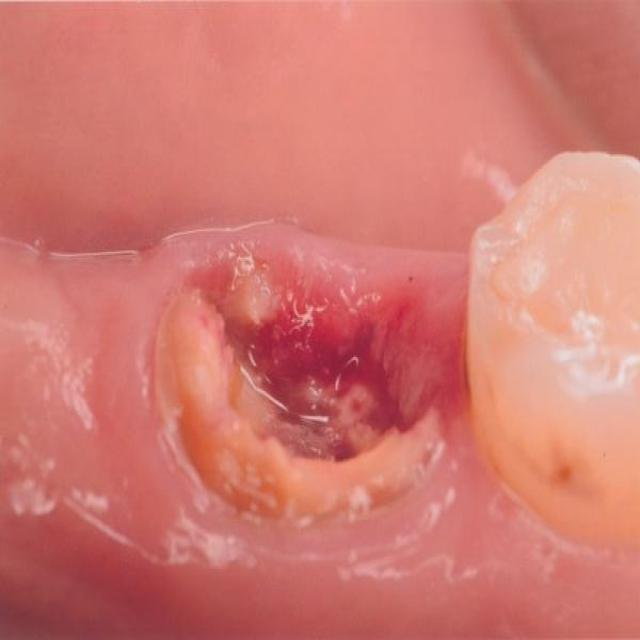caries: (494, 190, 639, 373)
crack: (462, 151, 639, 550)
